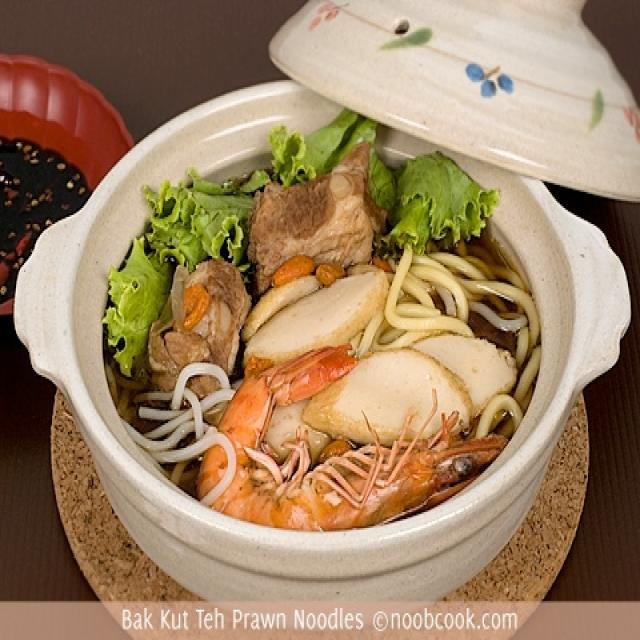汤锅炖物: (32, 21, 617, 598)
